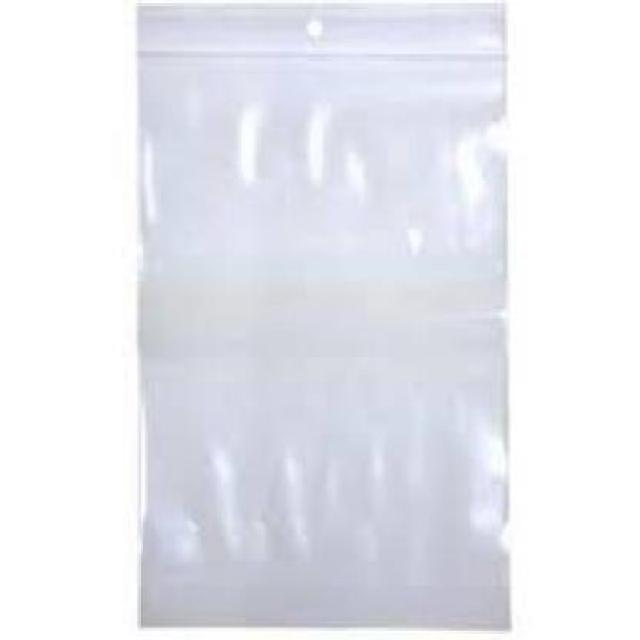PLASTIC: (132, 0, 508, 628)
